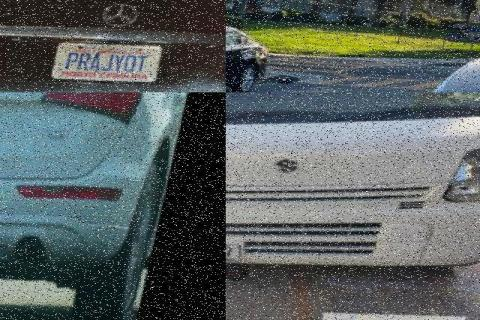LicensePlate: (51, 43, 162, 84), (225, 237, 283, 274), (0, 99, 37, 145)
